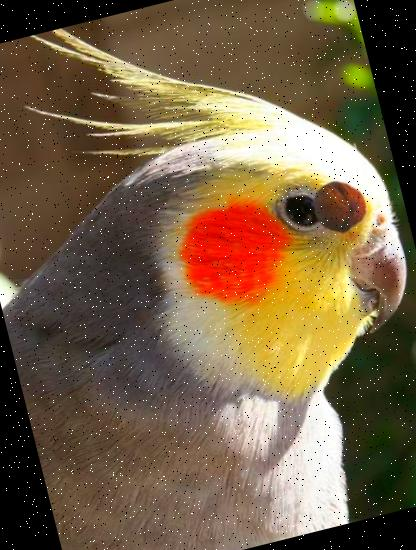Walnut: (306, 174, 374, 241)
